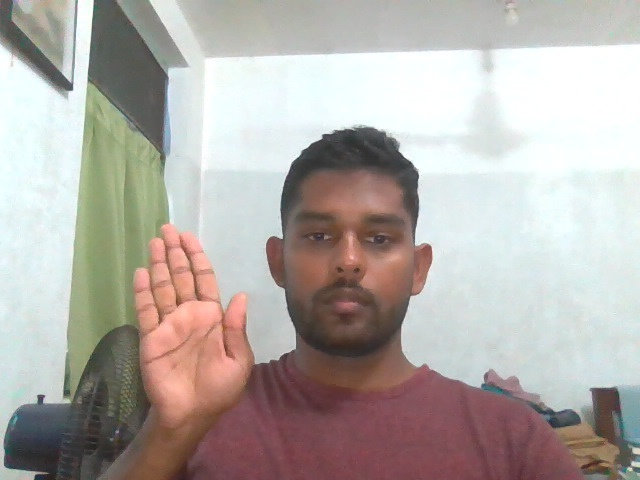bye: (103, 216, 270, 446)
